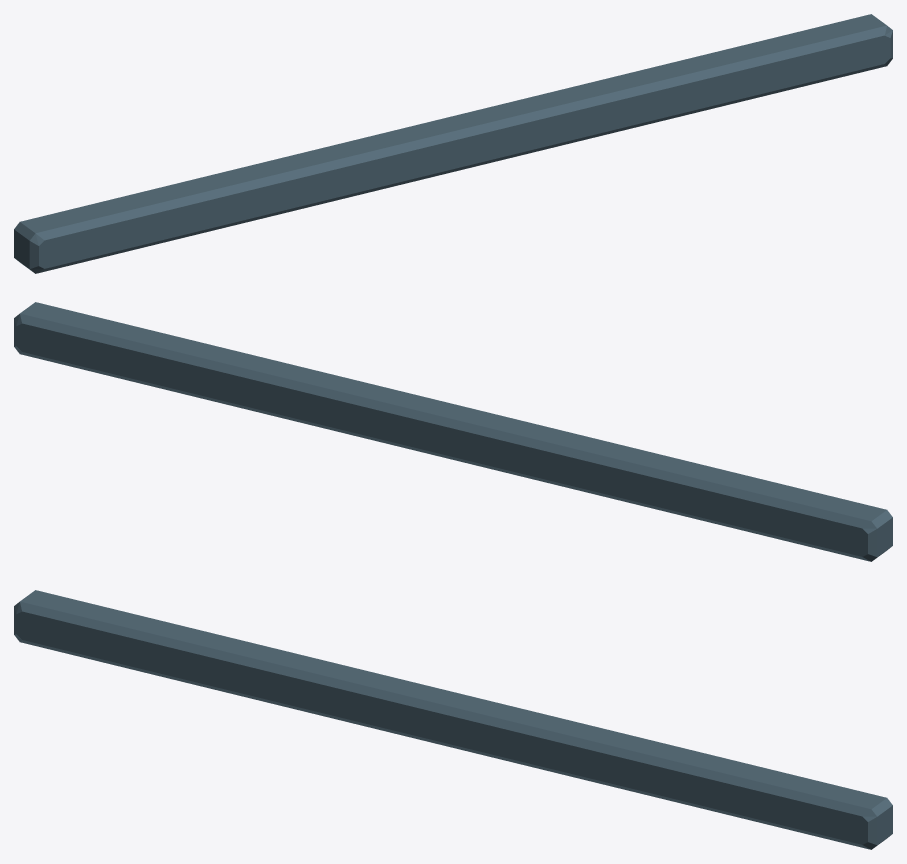
Rendered from 06_Beam_2m.obj.
3 views of the same model, one above another, from view 1: azimuth 30°, elevation 25°; view 2: azimuth 150°, elevation 25°; view 3: azimuth 330°, elevation 25° (orthographic).
Size of the model in its own units: 2 by 0.09 by 0.09.
